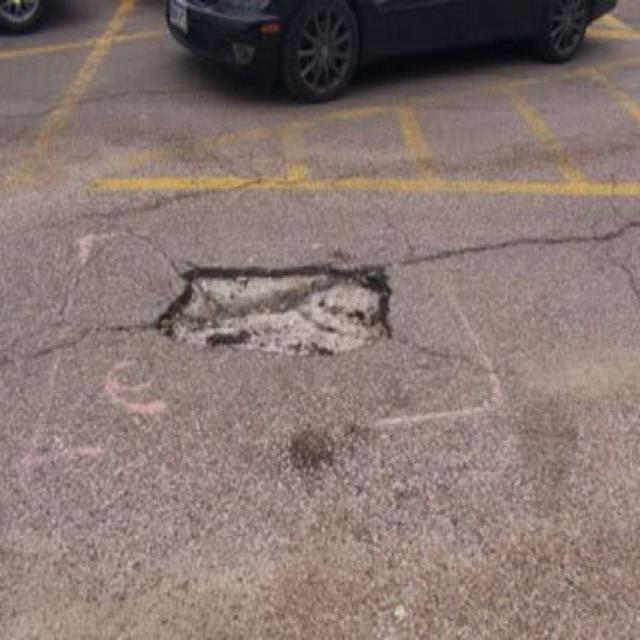Pothole: (153, 254, 403, 359)
